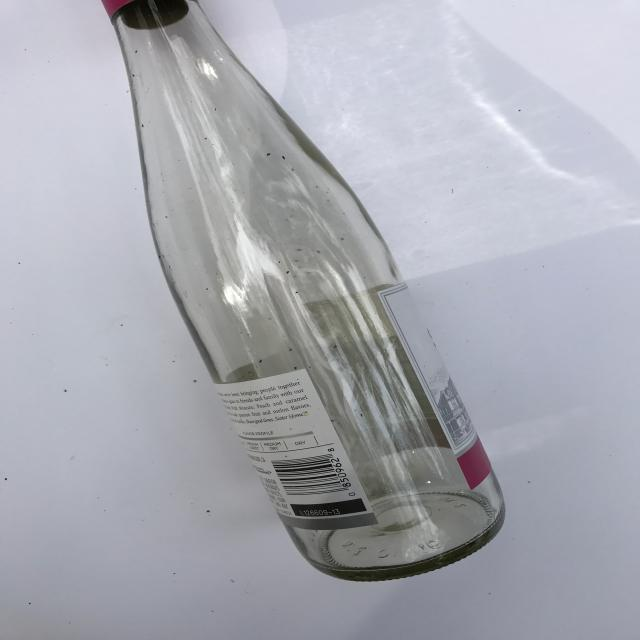glass: (98, 0, 507, 582)
